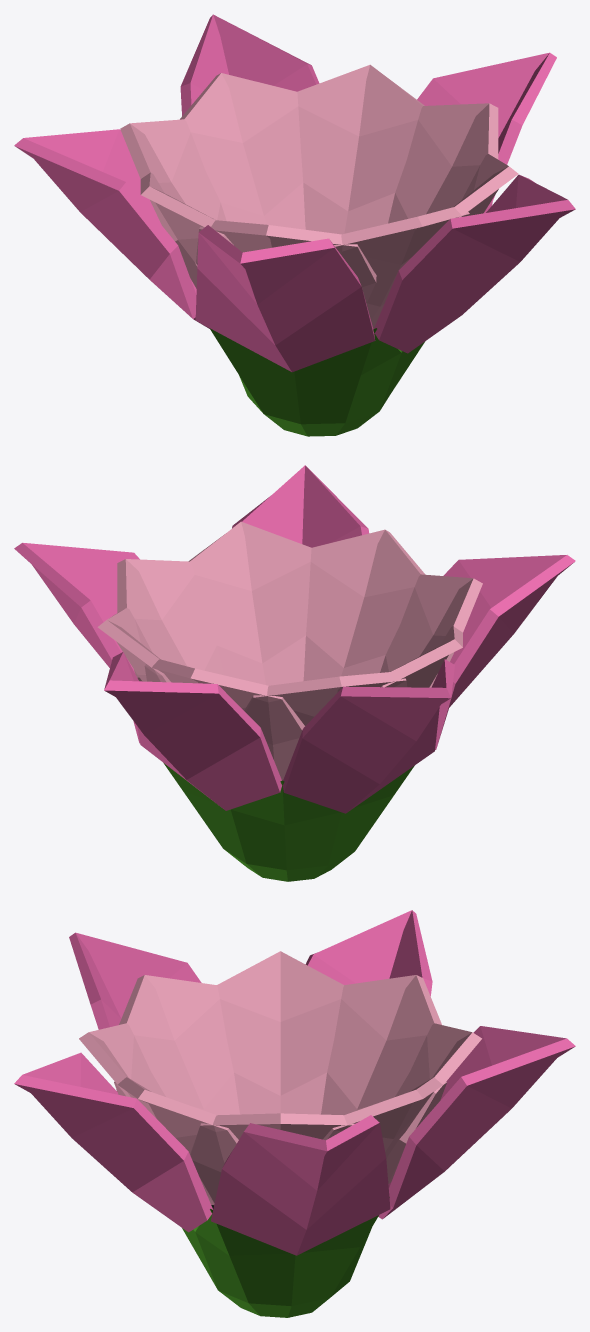
The model's file is rose.glb.
The picture shows the model from 3 angles, top to bottom: view 1: azimuth 30°, elevation 25°; view 2: azimuth 150°, elevation 25°; view 3: azimuth 270°, elevation 25°; orthographic projection. The views are drawn at different scales.
Visible parts, largest first — view 1: Roundcube.008; view 2: Roundcube.008; view 3: Roundcube.008.
Part boxes in pixels (<box>): Roundcube.008: <box>14,14,575,436</box>; Roundcube.008: <box>14,465,575,881</box>; Roundcube.008: <box>14,910,575,1317</box>.
Bounding box in the file's own units: 1.17 × 0.6455 × 1.17.
